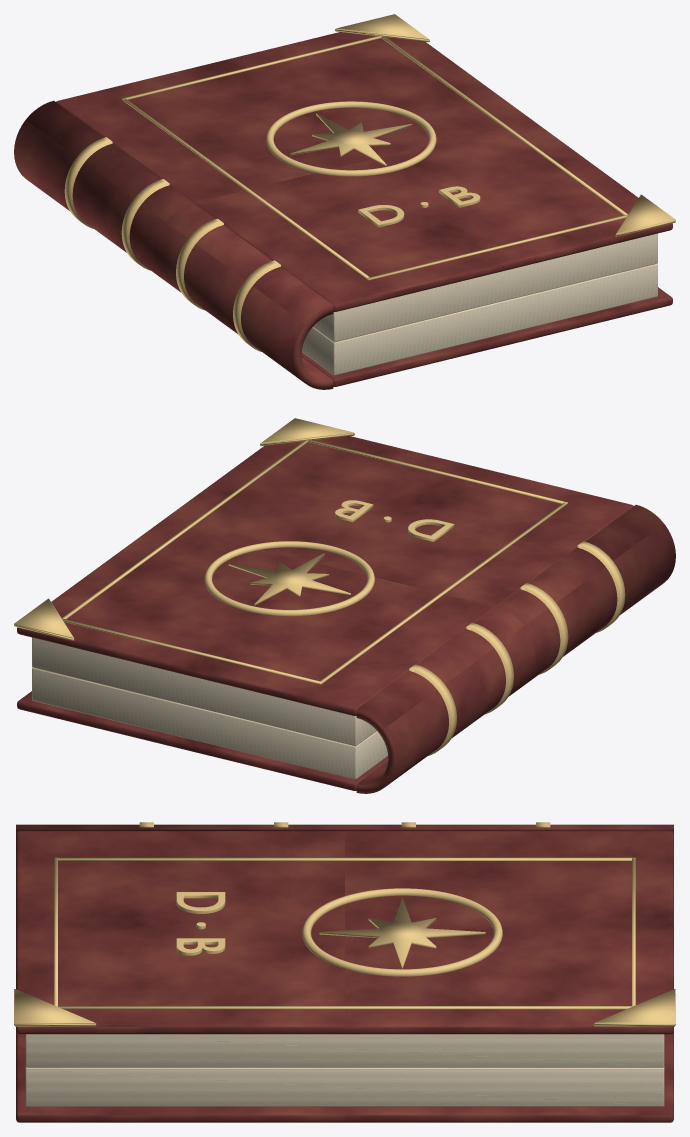
Rendered from book.glb.
The picture shows the model from 3 angles, top to bottom: view 1: azimuth 30°, elevation 25°; view 2: azimuth 150°, elevation 25°; view 3: azimuth 270°, elevation 25°; orthographic projection. The views are drawn at different scales.
Parts seen in each view (by area): view 1: Cover_Front, Spine, Pages_Right, Pages_Left, Cover_Back, Gold_Ring, Gold_Star, Gold_Corner_T, Gold_Corner_B, Gold_Frame_2, Gold_Frame_3, Gold_Monogram (+6 smaller); view 2: Cover_Front, Spine, Pages_Right, Pages_Left, Cover_Back, Gold_Ring, Gold_Star, Gold_Corner_B, Gold_Corner_T, Gold_Frame_2, Gold_Frame_3, Gold_Monogram (+6 smaller); view 3: Cover_Front, Pages_Right, Pages_Left, Cover_Back, Spine, Gold_Ring, Gold_Star, Gold_Frame_2, Gold_Frame_3, Gold_Corner_B, Gold_Corner_T, Gold_Monogram (+2 smaller).
Part boxes in pixels (left/top/right/bottom): Cover_Front: left=56, top=32, right=672, bottom=311; Spine: left=14, top=100, right=333, bottom=389; Pages_Right: left=302, top=263, right=657, bottom=375; Pages_Left: left=313, top=233, right=657, bottom=342; Cover_Back: left=301, top=287, right=672, bottom=386; Gold_Ring: left=266, top=101, right=436, bottom=176; Gold_Star: left=290, top=113, right=412, bottom=165; Gold_Corner_T: left=335, top=14, right=429, bottom=42; Gold_Corner_B: left=615, top=194, right=675, bottom=236; Gold_Frame_2: left=122, top=98, right=369, bottom=280; Gold_Frame_3: left=380, top=35, right=627, bottom=215; Gold_Monogram: left=358, top=186, right=480, bottom=227; Cover_Front: left=17, top=436, right=633, bottom=715; Spine: left=356, top=504, right=675, bottom=793; Pages_Right: left=32, top=667, right=387, bottom=779; Pages_Left: left=32, top=637, right=376, bottom=746; Cover_Back: left=17, top=691, right=388, bottom=790; Gold_Ring: left=204, top=541, right=374, bottom=616; Gold_Star: left=228, top=553, right=350, bottom=605; Gold_Corner_B: left=260, top=418, right=354, bottom=446; Gold_Corner_T: left=14, top=598, right=74, bottom=640; Gold_Frame_2: left=319, top=502, right=567, bottom=683; Gold_Frame_3: left=62, top=439, right=308, bottom=619; Gold_Monogram: left=335, top=500, right=454, bottom=541; Cover_Front: left=16, top=831, right=673, bottom=1034; Pages_Right: left=25, top=1067, right=664, bottom=1106; Pages_Left: left=25, top=1034, right=664, bottom=1067; Cover_Back: left=16, top=1031, right=673, bottom=1122; Spine: left=16, top=824, right=673, bottom=833; Gold_Ring: left=302, top=888, right=502, bottom=976; Gold_Star: left=319, top=897, right=485, bottom=968; Gold_Frame_2: left=58, top=857, right=635, bottom=860; Gold_Frame_3: left=58, top=1006, right=631, bottom=1009; Gold_Corner_B: left=14, top=989, right=96, bottom=1026; Gold_Corner_T: left=593, top=989, right=675, bottom=1026; Gold_Monogram: left=176, top=892, right=225, bottom=955.
Size of the model in its own units: 1.63 by 0.366 by 2.07.
Materials: 4 (3 with a texture image).
